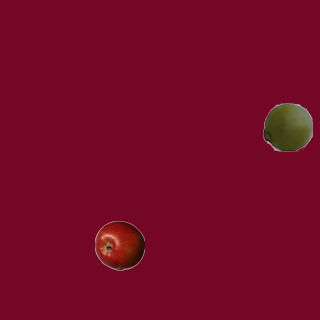Apple Braeburn: (94, 220, 144, 270)
Grape White 4: (262, 101, 312, 151)
